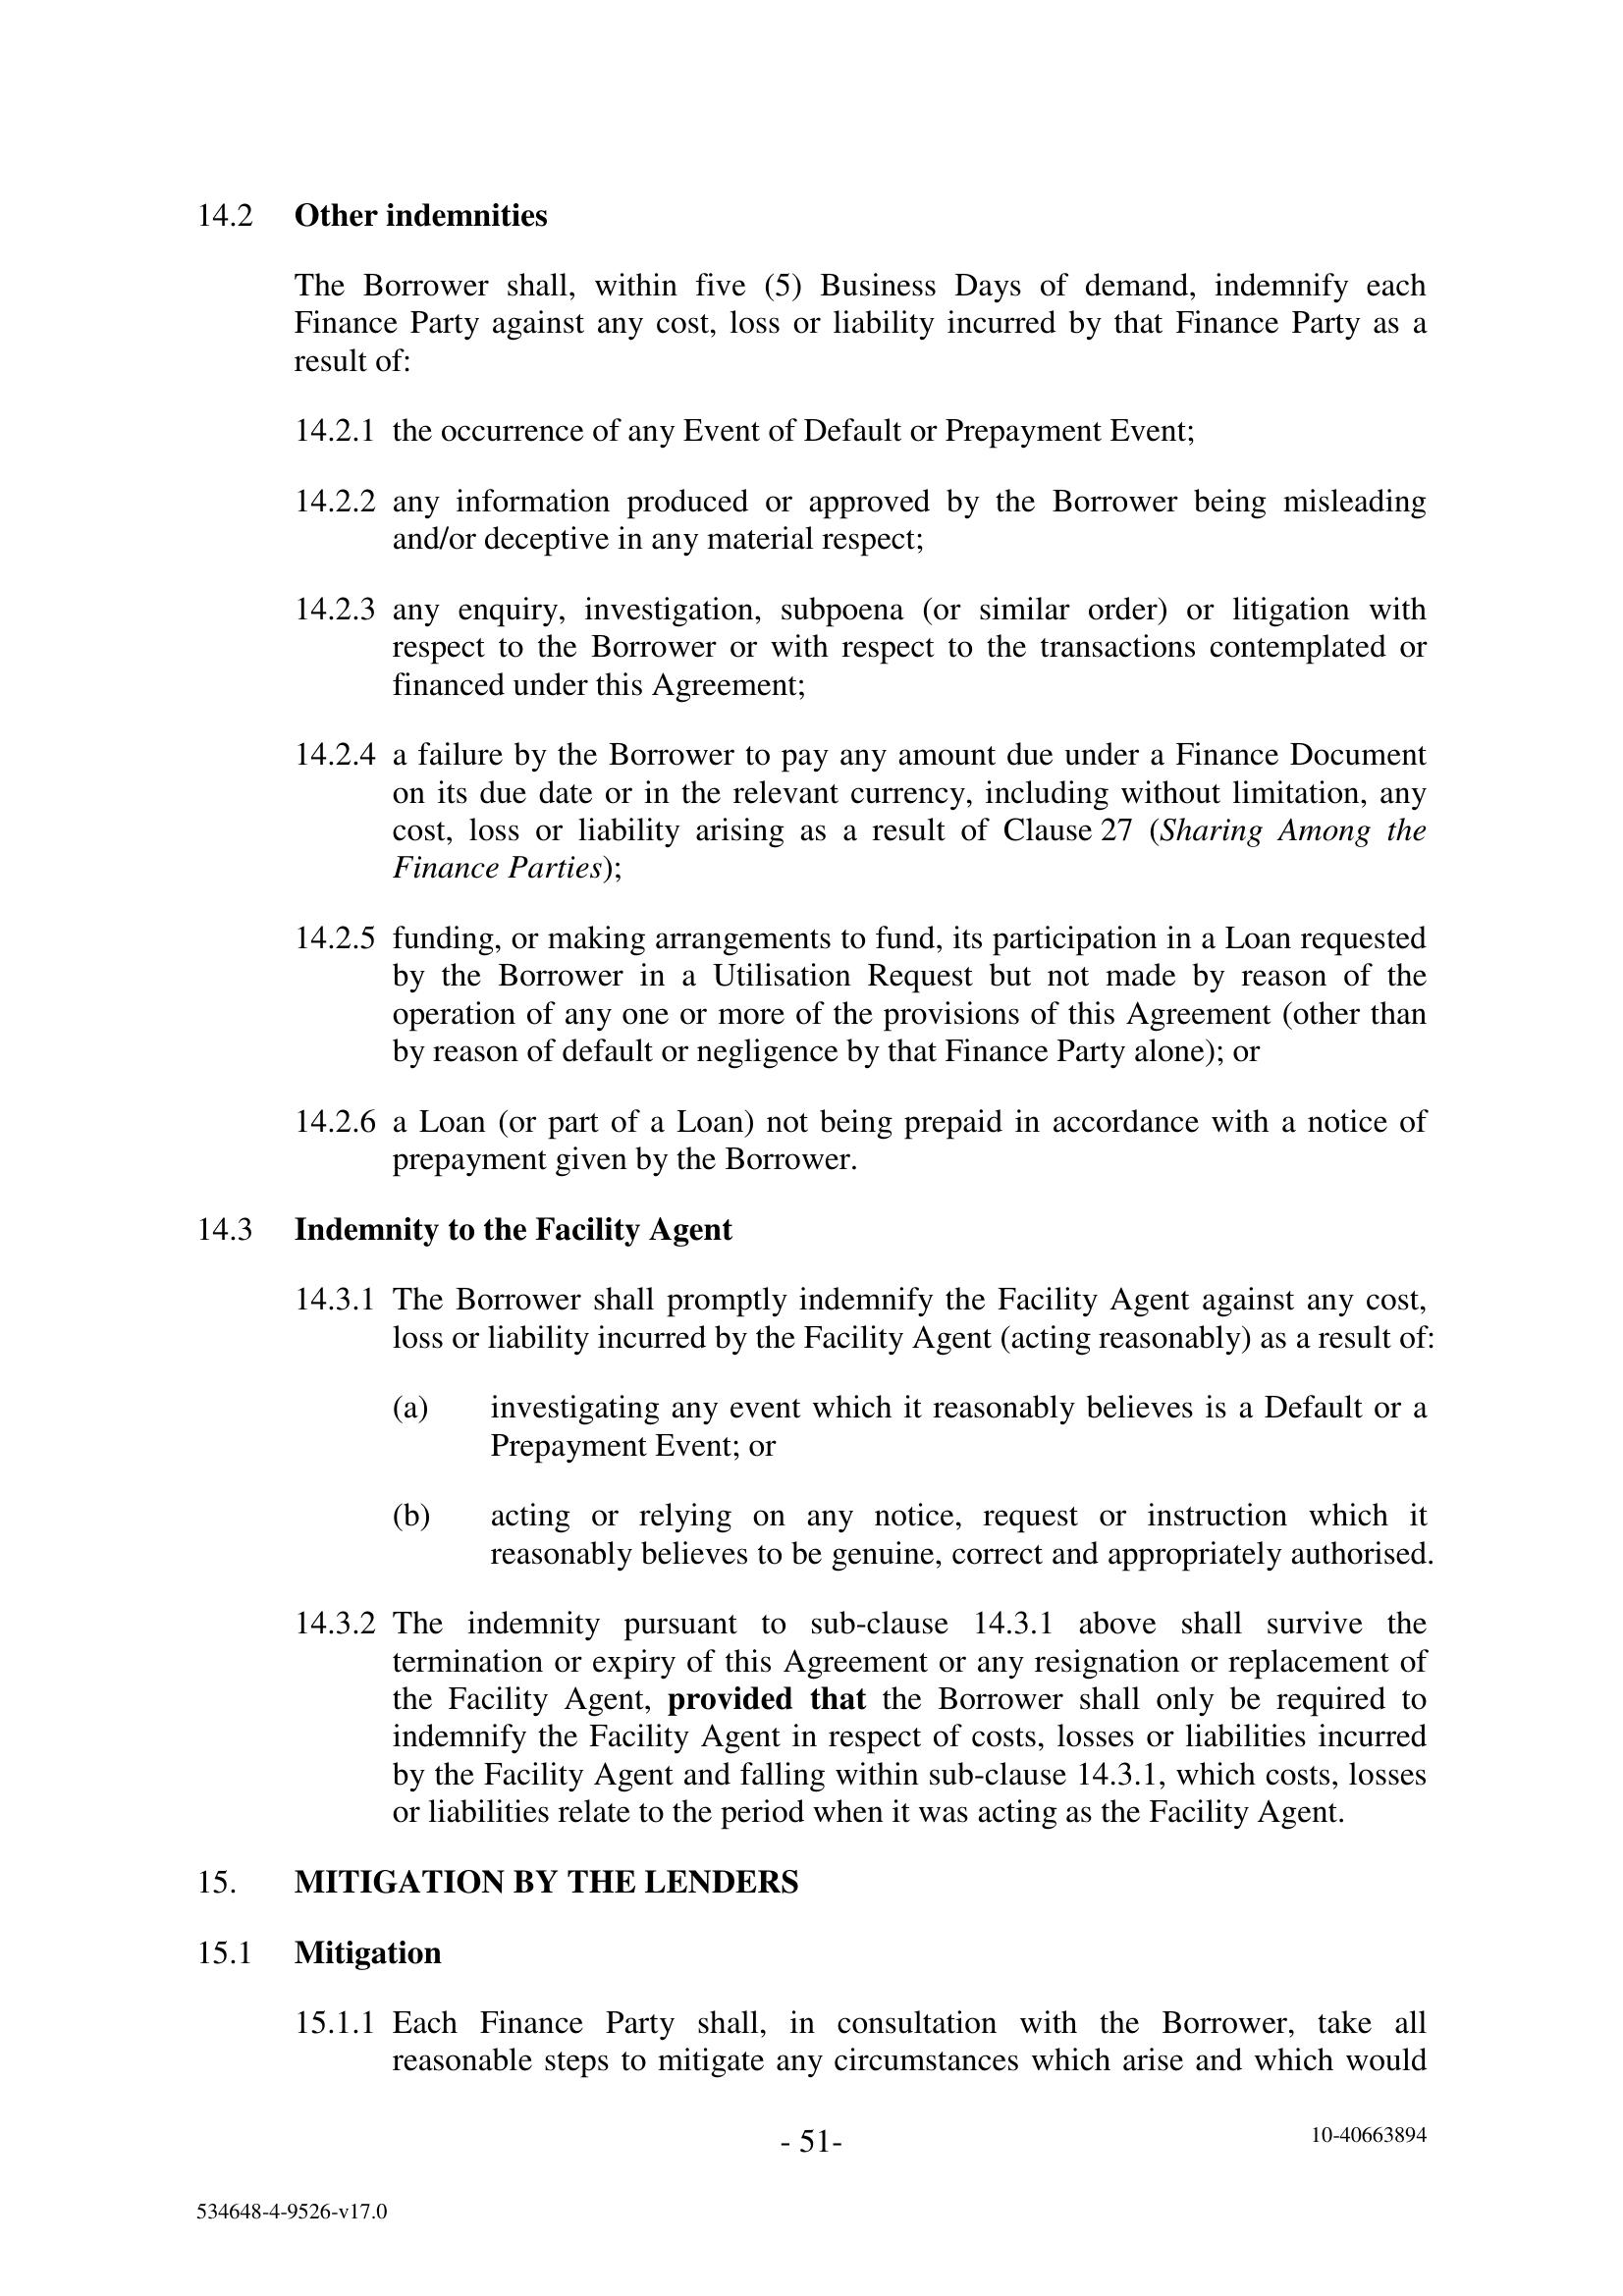pageno: (732, 2099, 894, 2199)
tag: (105, 2157, 504, 2273), (1205, 2091, 1546, 2191)
